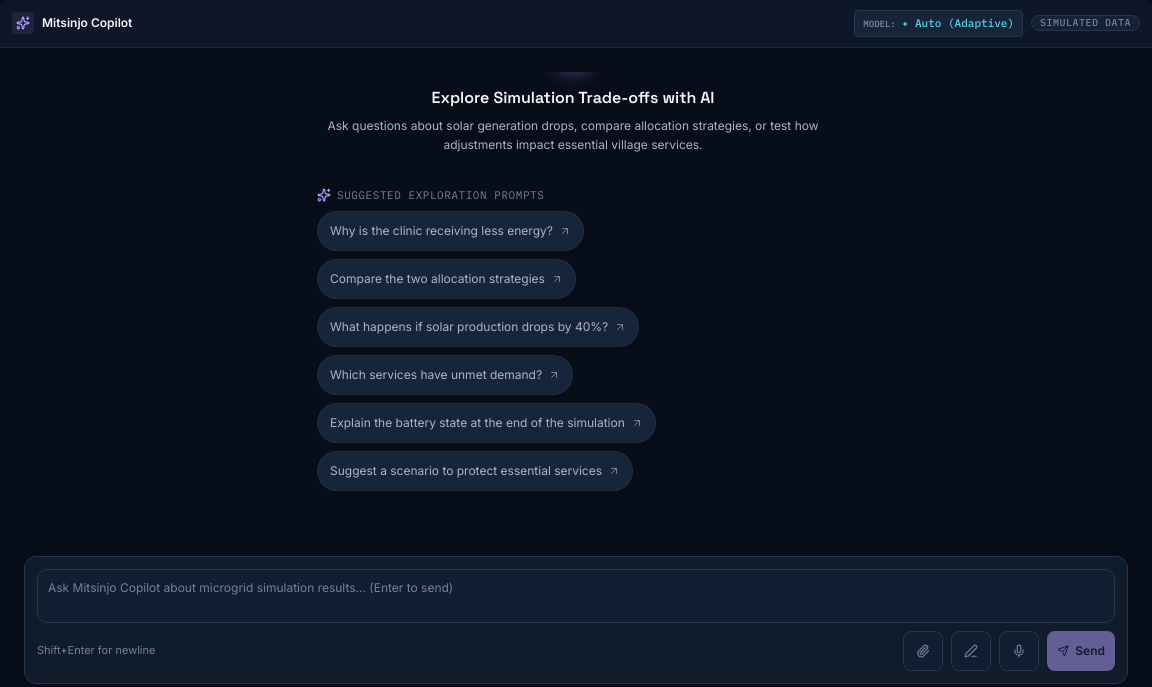
Test: Copilot chat flow (decisions, fallback note) › "Undo last change" restores the input and marks the change undone (M1-T4)
(page scrolled)
Replace the text in the text box with "Cut the market tonight" at point(576, 596), box [37, 568, 1115, 622]
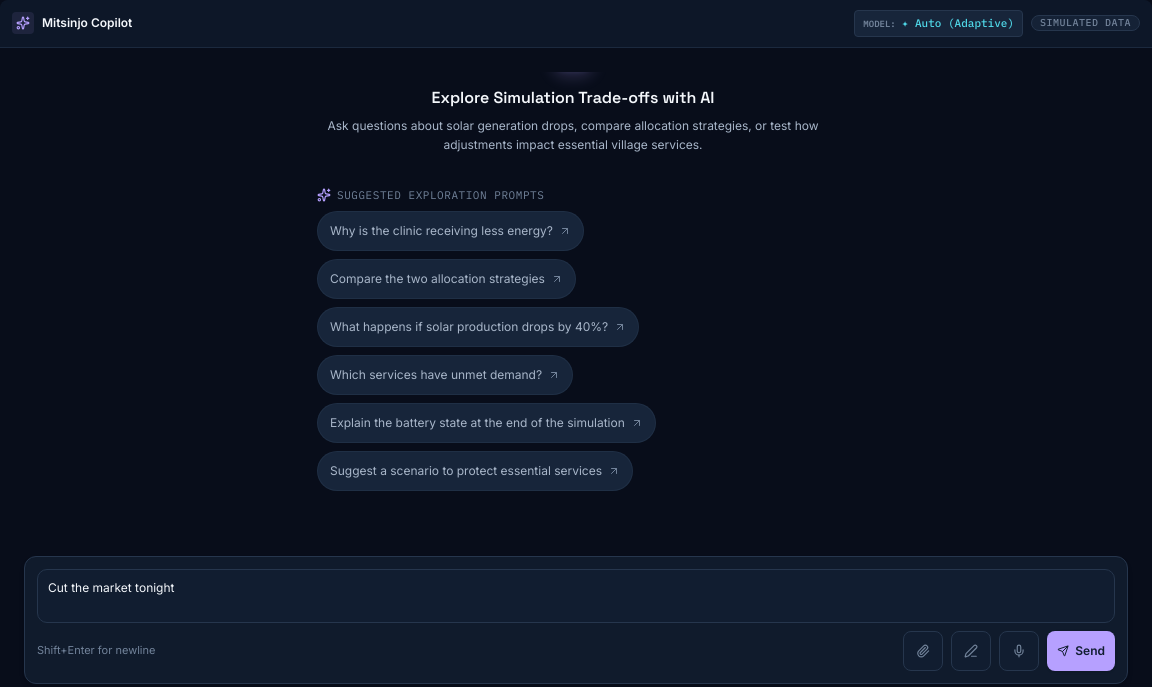
Press Enter in the text box, box [37, 568, 1115, 622]
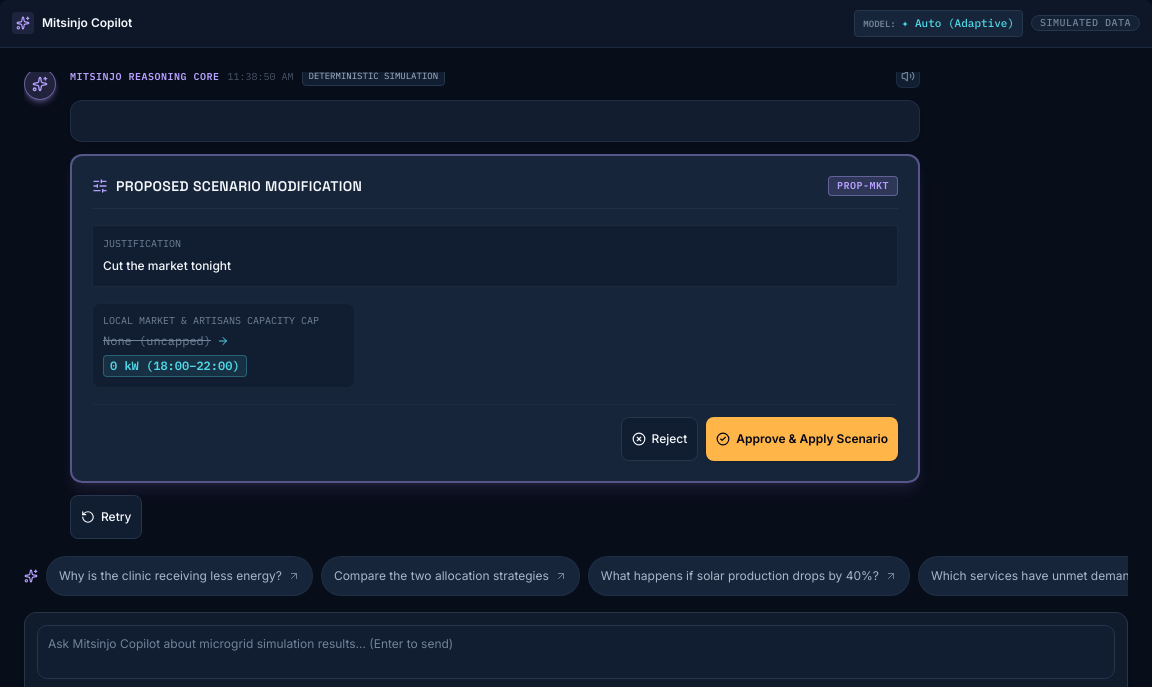
Click the button "Approve & Apply Scenario" at point(802, 439), box [706, 417, 898, 461]
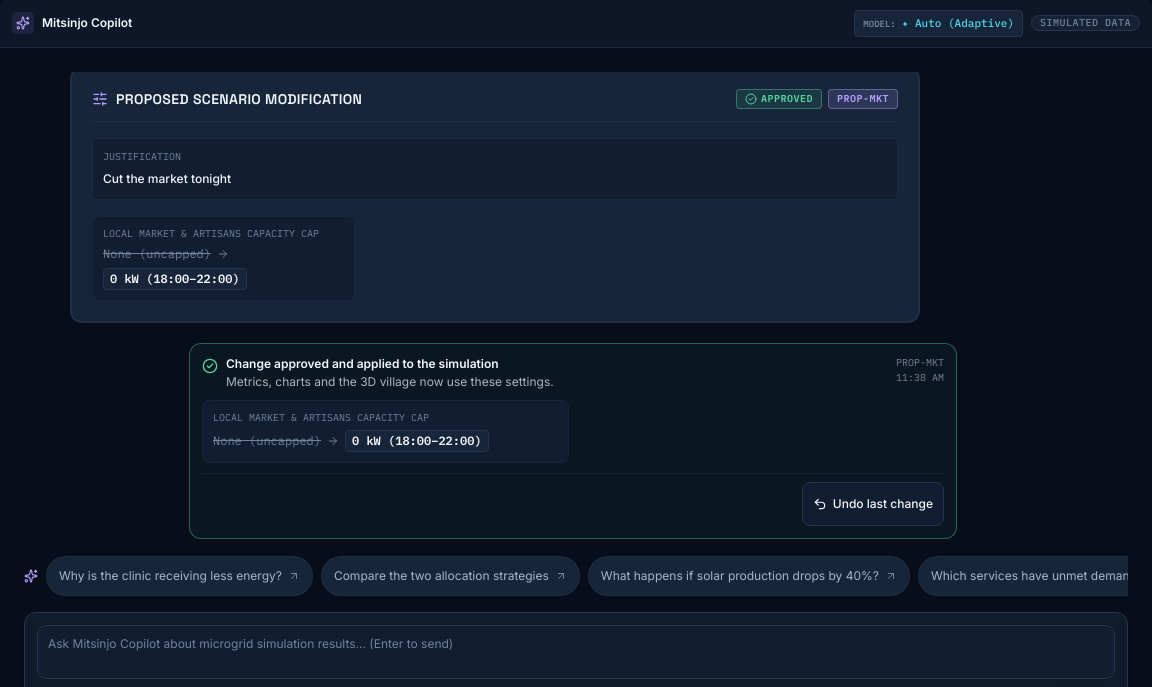
Click the button "Undo last change" at point(873, 504), box [802, 482, 944, 526]
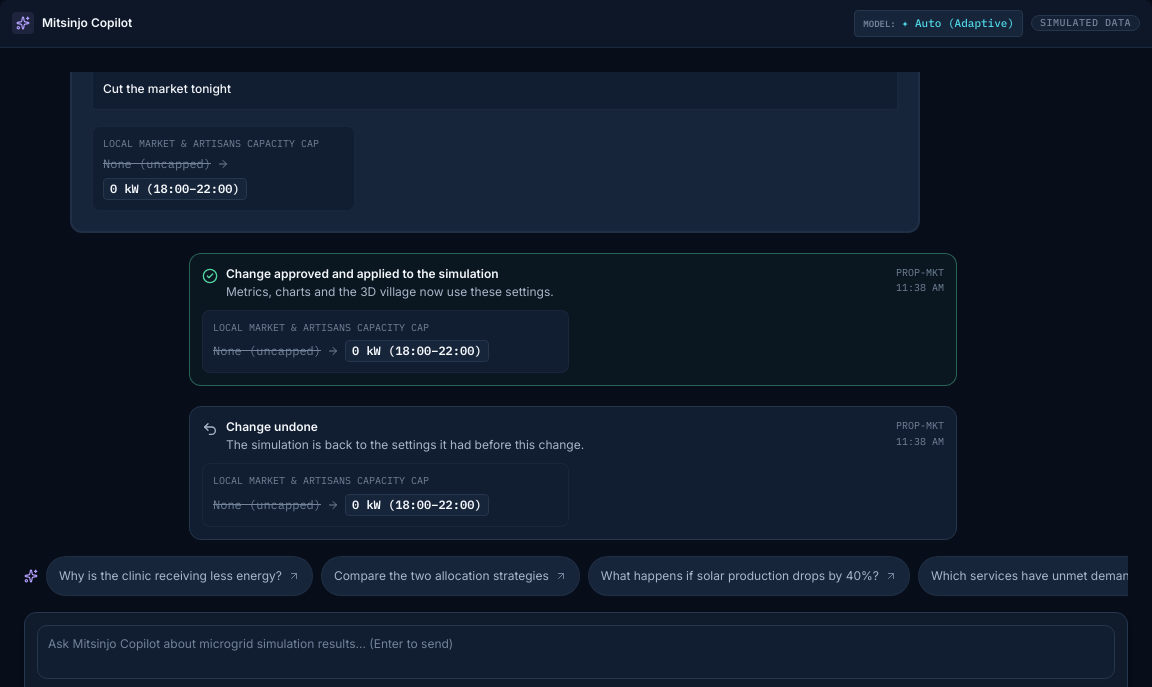
Check: the text "Change undone" is shown, box [226, 419, 318, 434]
Check: the button "Undo last change" is gone
